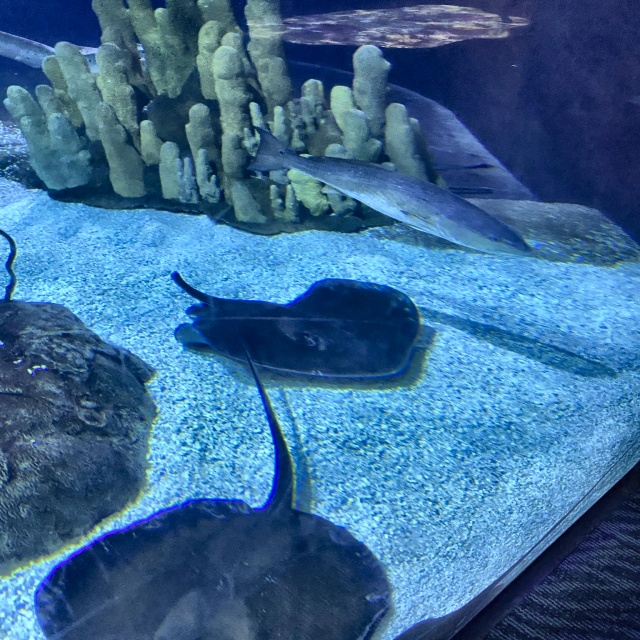fish: (238, 123, 541, 260)
stingray: (34, 497, 392, 639), (187, 276, 420, 379)
